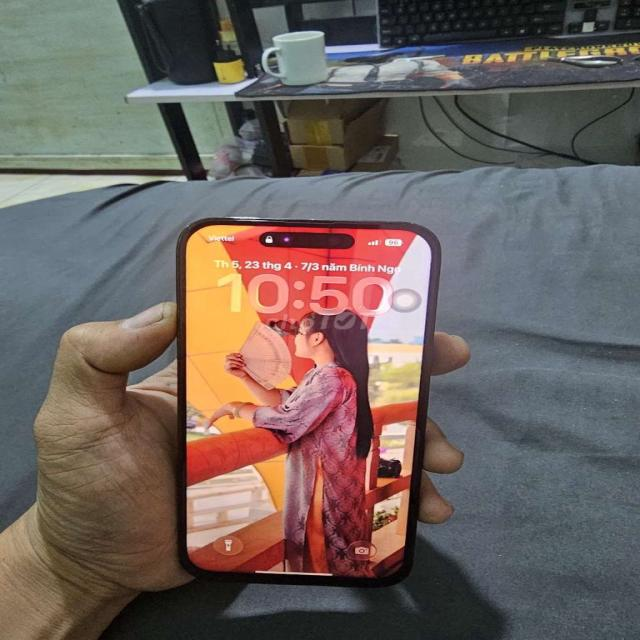gen_14: (158, 209, 435, 603)
